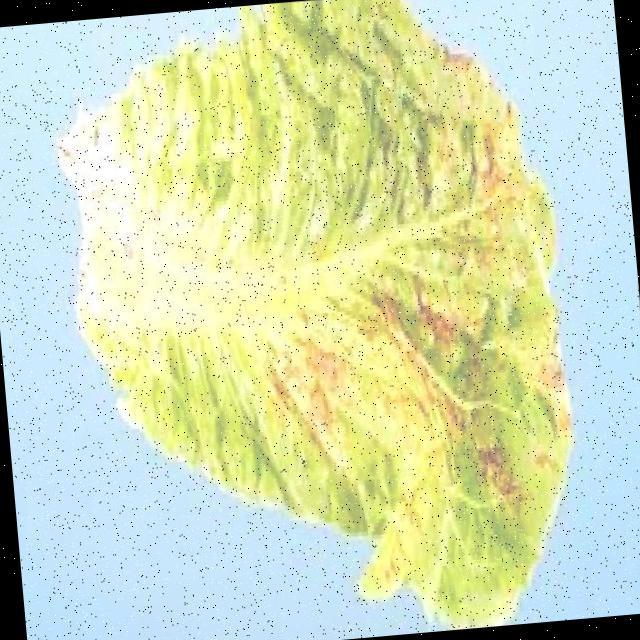Powdery_Mildew: (80, 9, 558, 499)
